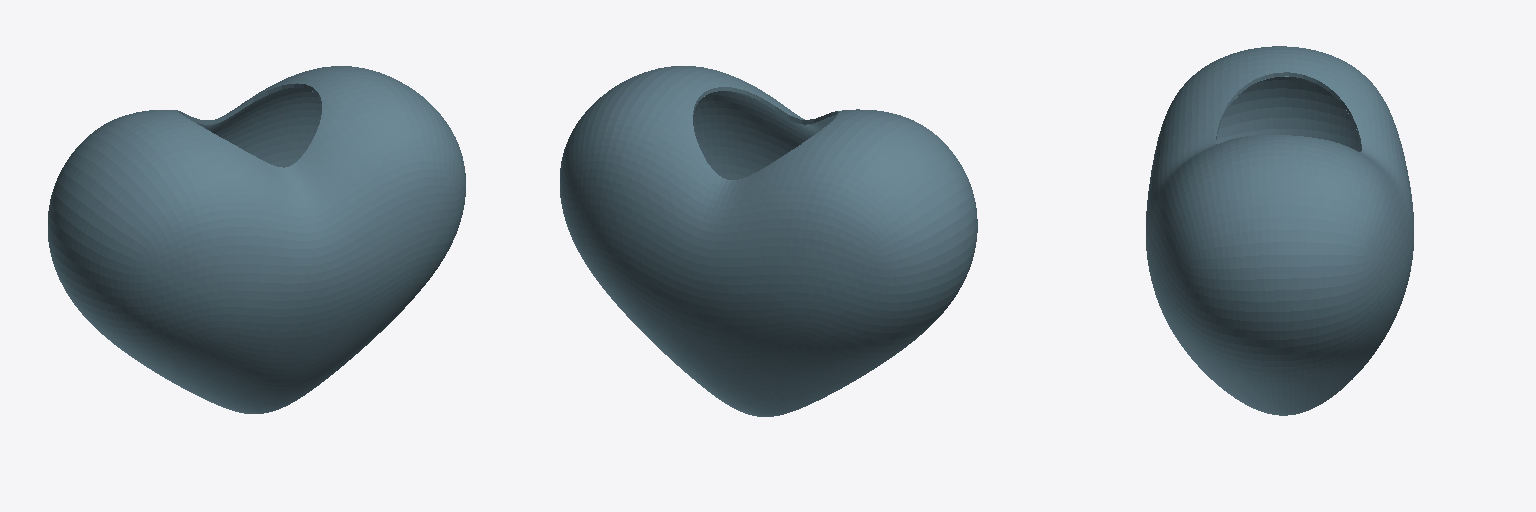
File: heart.obj
3 renders of one model, left to right at view 1: azimuth 30°, elevation 25°; view 2: azimuth 150°, elevation 25°; view 3: azimuth 270°, elevation 25°, orthographic.
Visible parts, largest first — view 1: 12190_Heart_v1_L3; view 2: 12190_Heart_v1_L3; view 3: 12190_Heart_v1_L3.
Boxes of the visible parts, x1=… form: 12190_Heart_v1_L3: x1=48, y1=66, x2=465, y2=413; 12190_Heart_v1_L3: x1=560, y1=66, x2=977, y2=416; 12190_Heart_v1_L3: x1=1146, y1=46, x2=1413, y2=415.
Size of the model in its own units: 21.25 by 16.3 by 12.84.